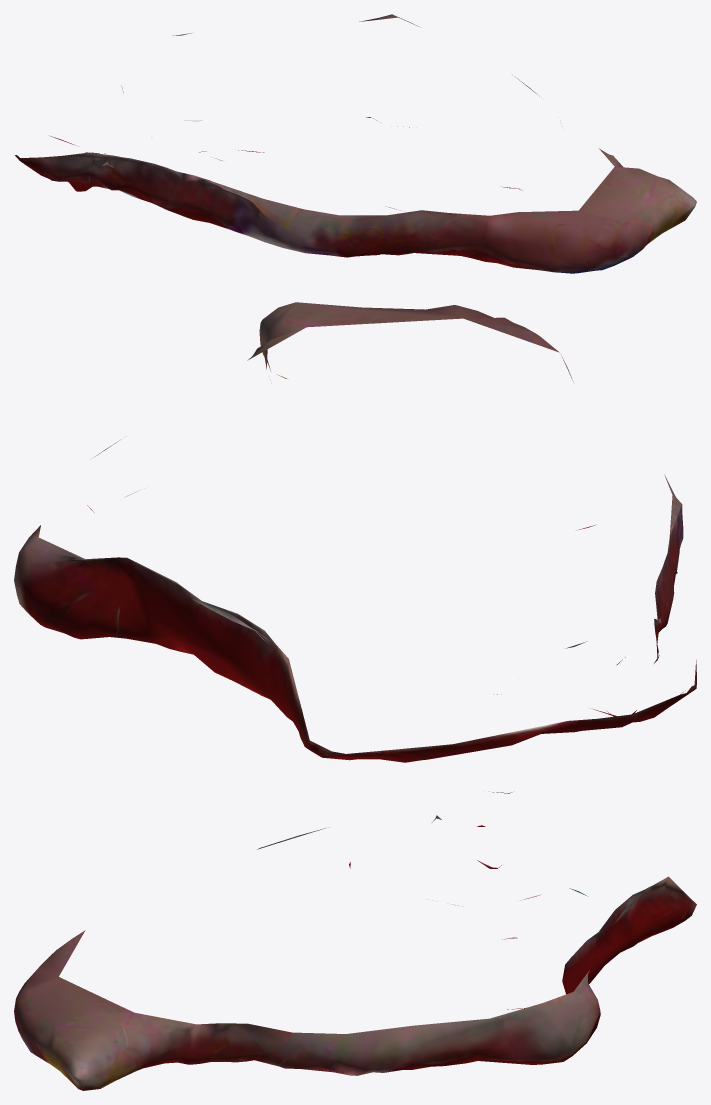
The model's file is hall.glb.
3 renders of one model, top to bottom at view 1: azimuth 30°, elevation 25°; view 2: azimuth 150°, elevation 25°; view 3: azimuth 270°, elevation 25°, orthographic. The views are drawn at different scales.
Bounding box in the file's own units: 0.684 × 0.1009 × 0.751.
1 material, 1 textured.
